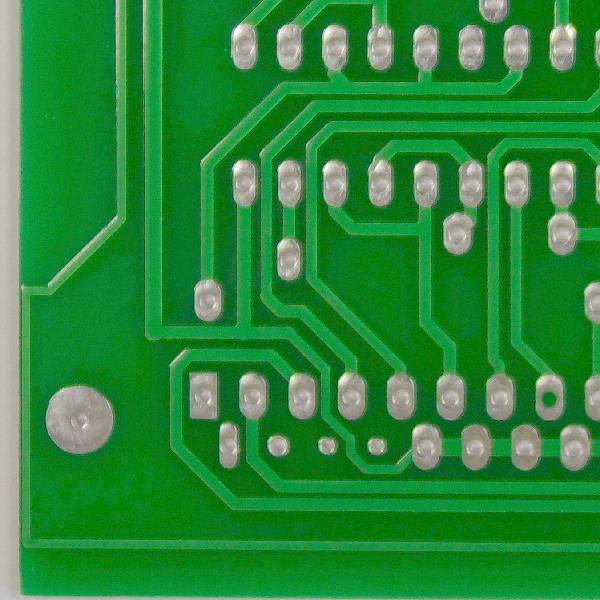missing_hole: (533, 378, 566, 415)
